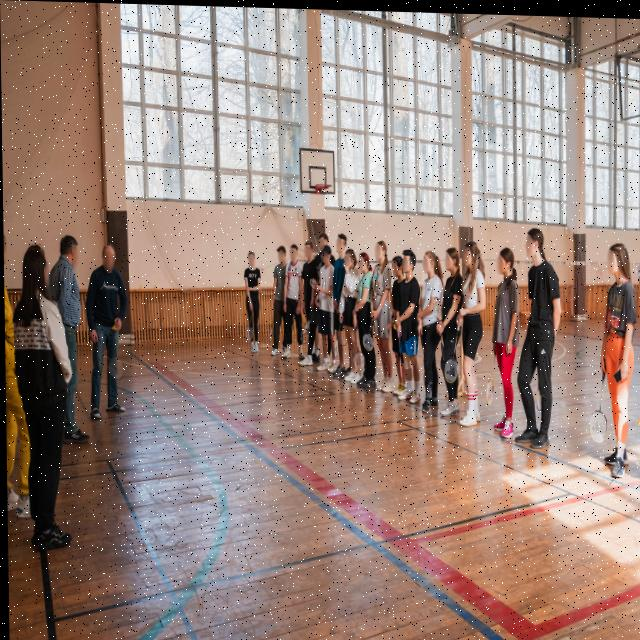Person: (580, 214, 640, 482), (16, 237, 61, 552), (513, 211, 563, 462), (82, 239, 133, 427), (485, 232, 523, 442), (51, 225, 85, 448), (455, 229, 489, 438), (436, 234, 464, 431), (412, 240, 443, 415), (396, 232, 420, 405), (373, 225, 394, 396), (353, 232, 373, 398), (240, 238, 266, 357), (315, 224, 334, 382), (339, 238, 359, 385), (280, 240, 304, 362), (296, 236, 318, 369), (331, 227, 350, 380), (267, 237, 289, 361), (390, 243, 403, 400)
